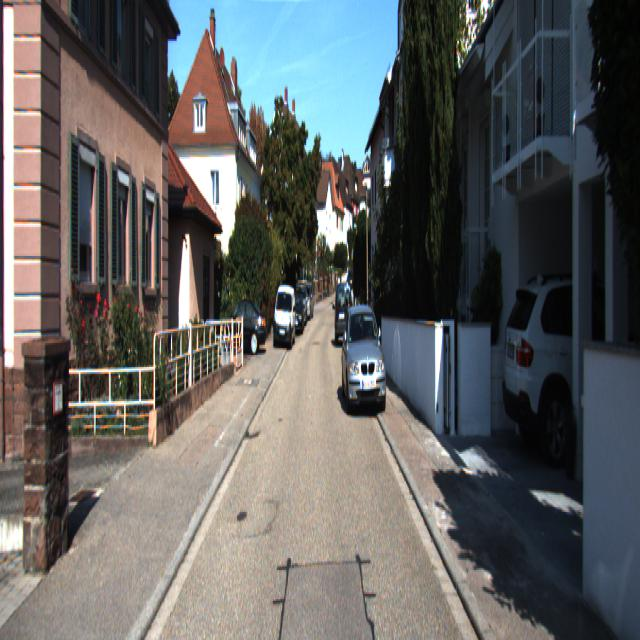Car: (500, 263, 640, 469), (341, 303, 386, 421), (214, 301, 267, 361), (272, 286, 297, 352), (334, 280, 353, 345)
